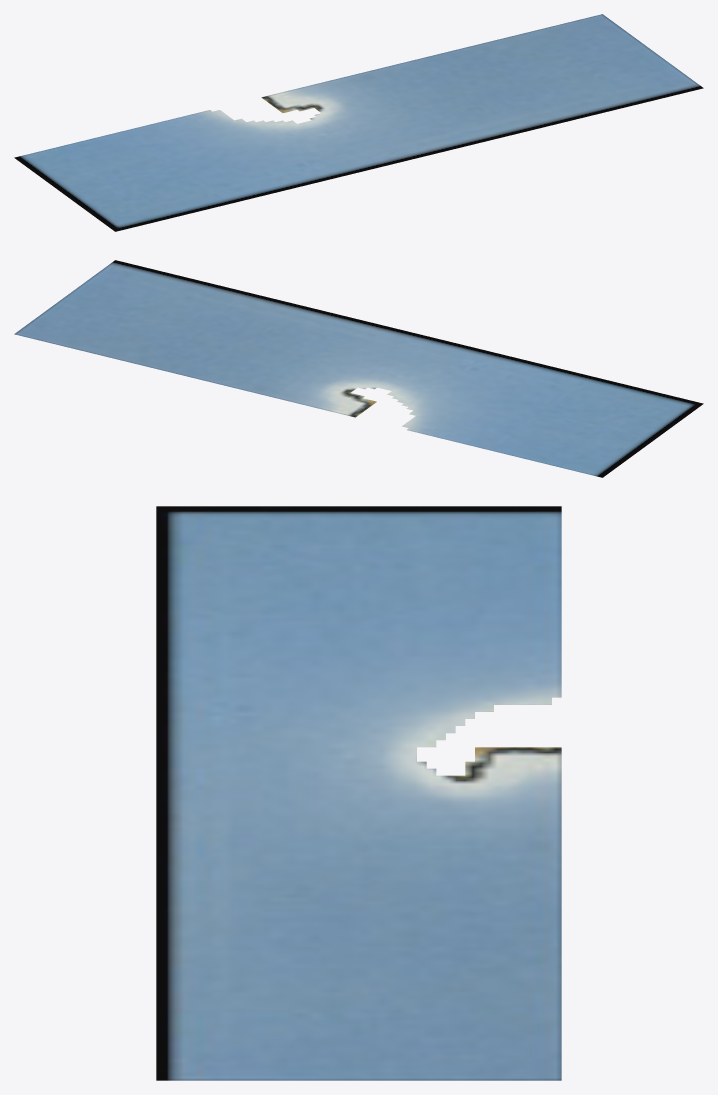
File: south-argentina-chile-sea.gltf
3 renders of one model, top to bottom at view 1: azimuth 30°, elevation 25°; view 2: azimuth 150°, elevation 25°; view 3: azimuth 270°, elevation 25°, orthographic. The views are drawn at different scales.
Parts seen in each view (by area): view 1: Plane; view 2: Plane; view 3: Plane.
Part boxes in pixels (x1,y1,x2,y2): Plane: [14, 14, 703, 231]; Plane: [14, 260, 703, 477]; Plane: [156, 506, 561, 1080].
Size of the model in its own units: 0.7997 by 0 by 0.2385.
1 material, 1 textured.
